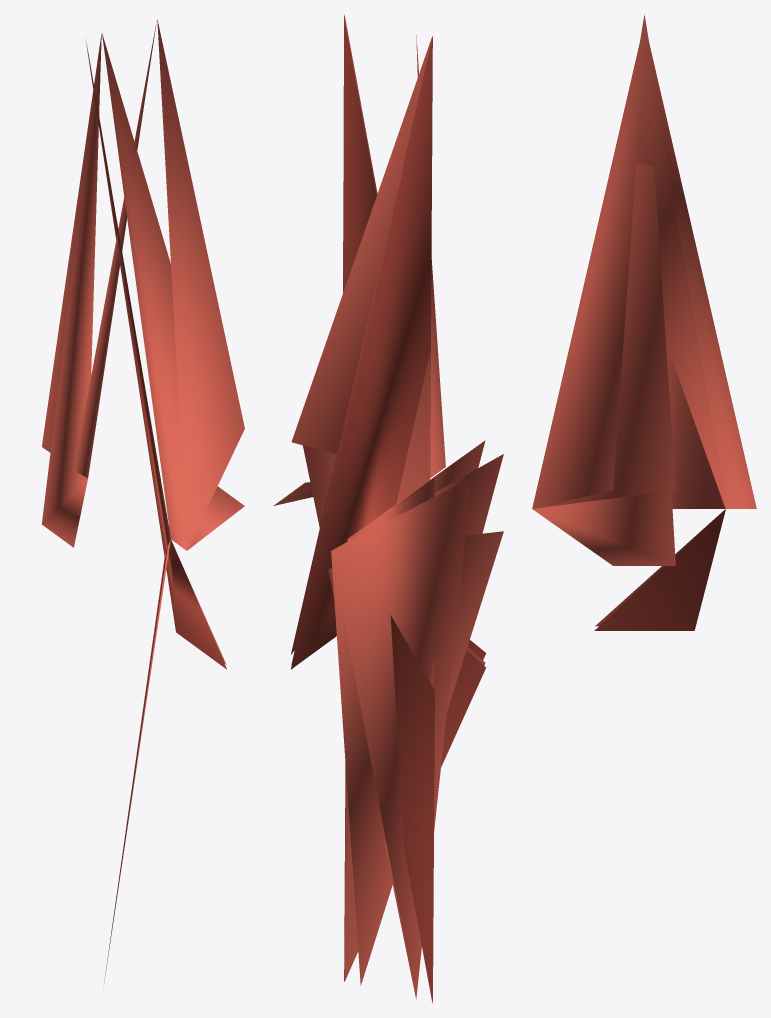
Rendered from equip_body_dragon_chainbody.glb.
The picture shows the model from 3 angles, left to right: view 1: azimuth 30°, elevation 25°; view 2: azimuth 150°, elevation 25°; view 3: azimuth 270°, elevation 25°; orthographic projection. The views are drawn at different scales.
Visible parts, largest first — view 1: equip_body_dragon_chainbody; view 2: equip_body_dragon_chainbody; view 3: equip_body_dragon_chainbody.
Boxes of the visible parts, x1,y1,x2,y2 form: equip_body_dragon_chainbody: [42, 19, 244, 985]; equip_body_dragon_chainbody: [273, 14, 503, 1003]; equip_body_dragon_chainbody: [532, 14, 756, 630].
Bounding box in the file's own units: 0.43 × 2 × 0.43.
